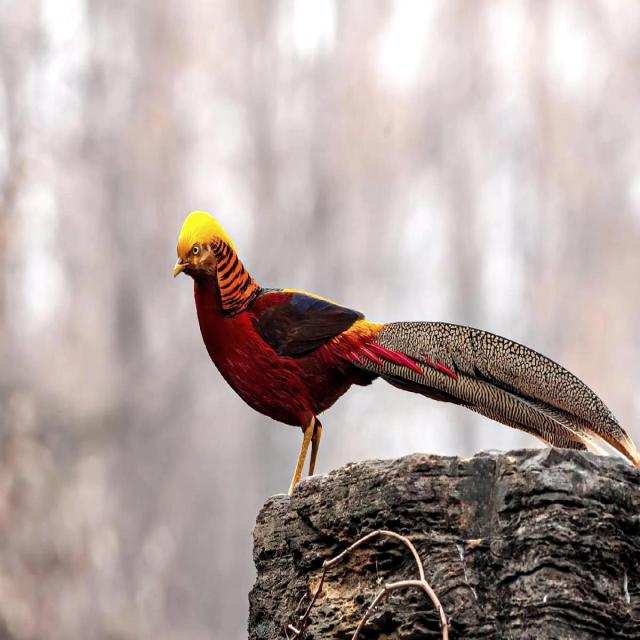Chrysolophus pictus feather: (359, 322, 640, 470)
